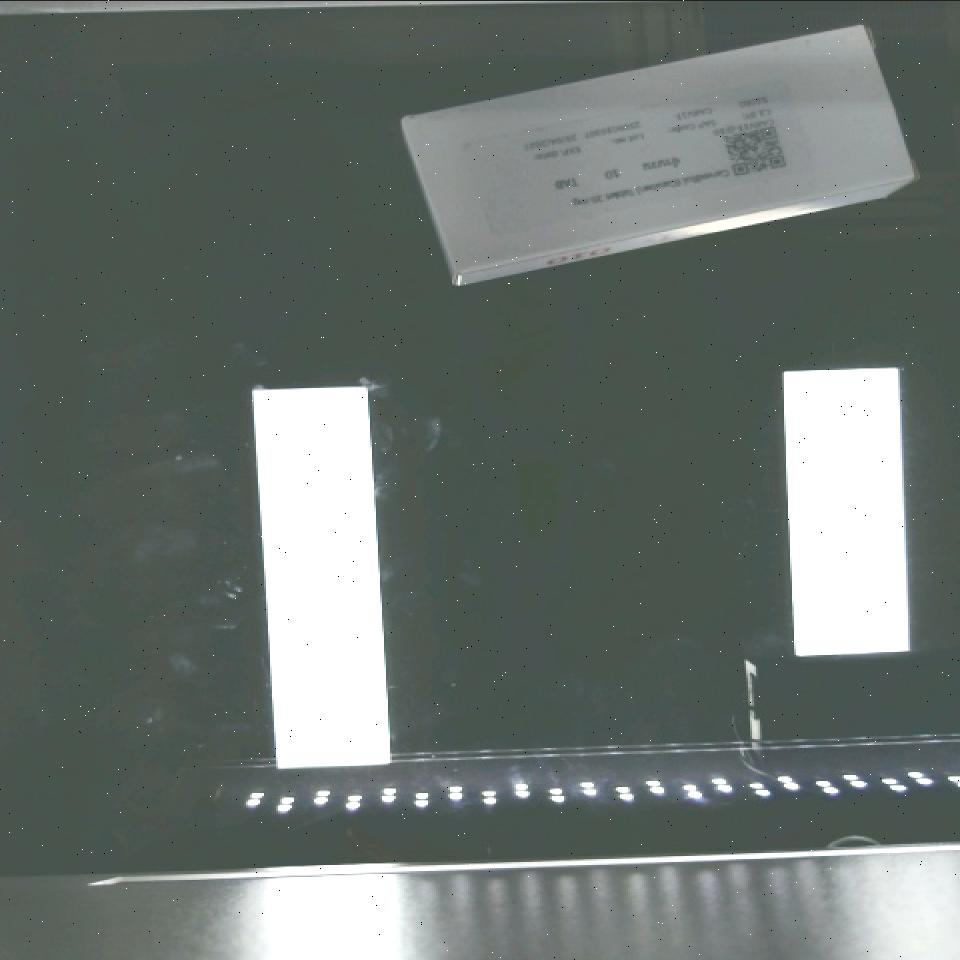medicine_box: (404, 15, 916, 277)
qr_code: (711, 110, 800, 187)
